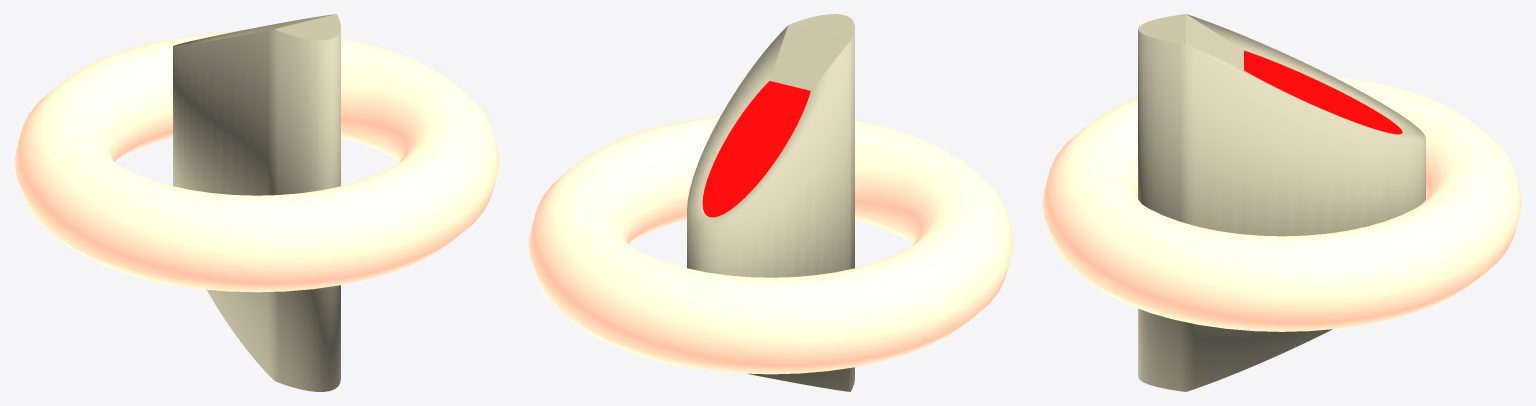
File: Invader2.dae
3 renders of one model, left to right at view 1: azimuth 30°, elevation 25°; view 2: azimuth 150°, elevation 25°; view 3: azimuth 270°, elevation 25°, orthographic.
Parts seen in each view (by area): view 1: Torus; view 2: Torus; view 3: Torus.
Part boxes in pixels (x1=…): Torus: x1=14, y1=14, x2=499, y2=391; Torus: x1=528, y1=14, x2=1013, y2=391; Torus: x1=1042, y1=14, x2=1521, y2=391.
Bounding box in the file's own units: 2.5 × 2.5 × 2.
